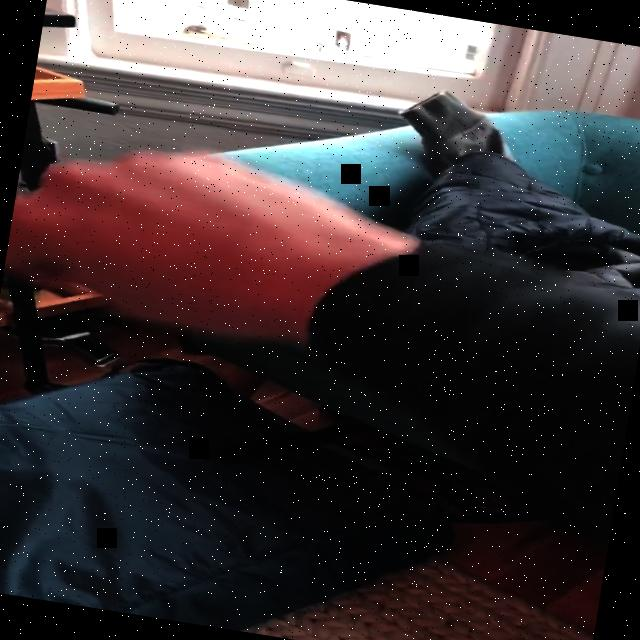Rock: (0, 125, 382, 361)
